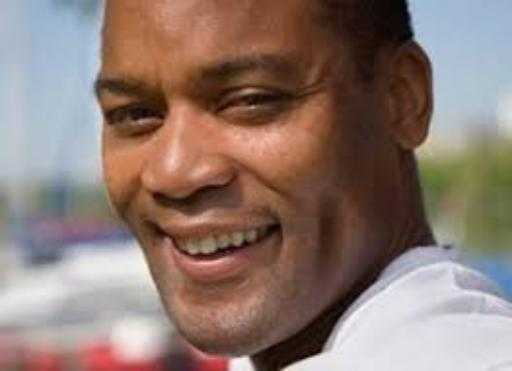left_eye: (219, 94, 289, 117)
left_lip_corner: (259, 218, 288, 237)
right_eye: (104, 107, 165, 129)
